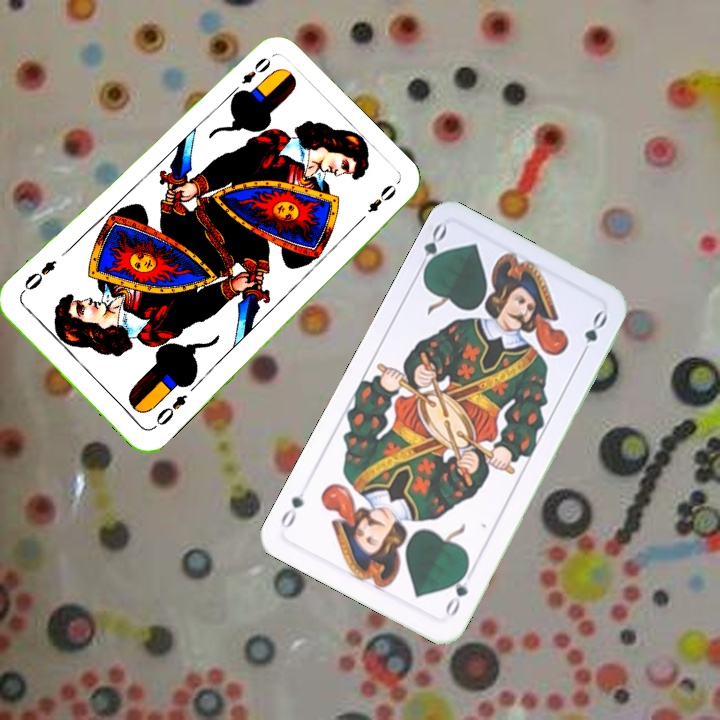EO: (226, 53, 274, 99), (151, 390, 190, 429)
GO: (412, 220, 450, 278), (440, 564, 471, 619)
